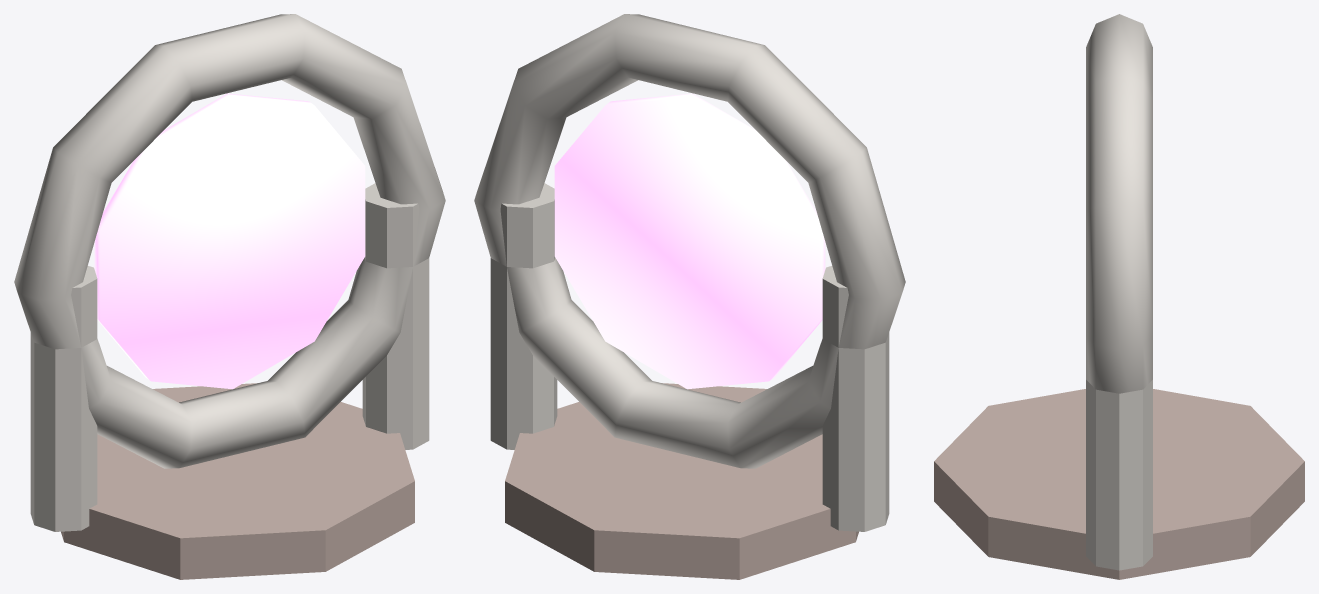
Rendered from Gimmick_Portal.fbx.
The picture shows the model from 3 angles, left to right: view 1: azimuth 30°, elevation 25°; view 2: azimuth 150°, elevation 25°; view 3: azimuth 270°, elevation 25°; orthographic projection. The views are drawn at different scales.
Visible parts, largest first — view 1: Gimmick_Portal_Frame, Gimmick_Portal_Disc, Gimmick_Portal_Base, Gimmick_Portal_Pillar_-1, Gimmick_Portal; view 2: Gimmick_Portal_Frame, Gimmick_Portal_Disc, Gimmick_Portal_Base, Gimmick_Portal_Pillar_-1, Gimmick_Portal; view 3: Gimmick_Portal_Base, Gimmick_Portal_Frame, Gimmick_Portal.
Part boxes in pixels (x1,y1,x2,y2): Gimmick_Portal_Frame: [14, 14, 445, 468]; Gimmick_Portal_Disc: [94, 93, 365, 389]; Gimmick_Portal_Base: [61, 383, 414, 579]; Gimmick_Portal_Pillar_-1: [30, 266, 97, 531]; Gimmick_Portal: [362, 183, 429, 449]; Gimmick_Portal_Frame: [474, 14, 905, 468]; Gimmick_Portal_Disc: [554, 93, 825, 389]; Gimmick_Portal_Base: [505, 383, 858, 579]; Gimmick_Portal_Pillar_-1: [822, 266, 889, 531]; Gimmick_Portal: [490, 183, 557, 449]; Gimmick_Portal_Base: [934, 389, 1304, 579]; Gimmick_Portal_Frame: [1086, 14, 1152, 393]; Gimmick_Portal: [1086, 380, 1152, 570].
Size of the model in its own units: 1.28 by 1.36 by 1.
